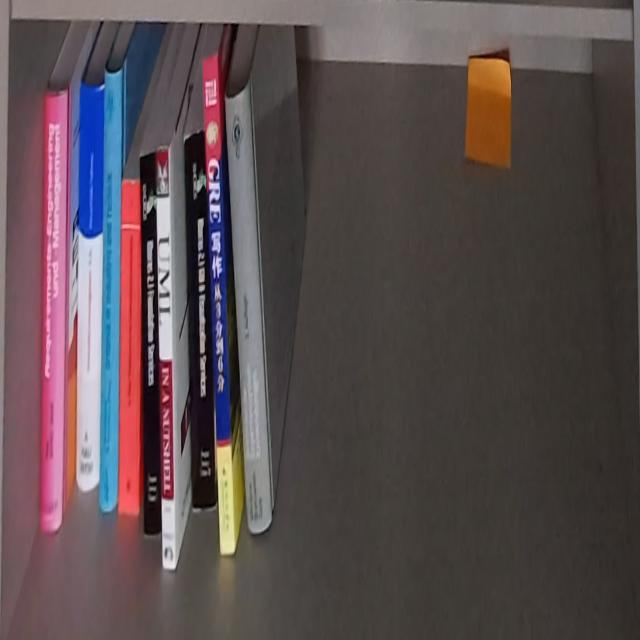Book Spine: (225, 77, 274, 539), (203, 51, 234, 559), (38, 88, 68, 537), (184, 130, 217, 511), (74, 84, 104, 495), (98, 65, 123, 513), (139, 152, 161, 542), (155, 148, 175, 573), (117, 185, 141, 518)
